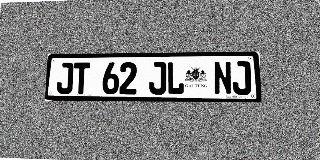2: (119, 62, 137, 94)
6: (102, 62, 120, 94)
J: (232, 61, 251, 95), (149, 62, 166, 95), (56, 63, 74, 94)
L: (167, 62, 184, 95)
N: (213, 61, 232, 95)
T: (73, 62, 90, 94)
